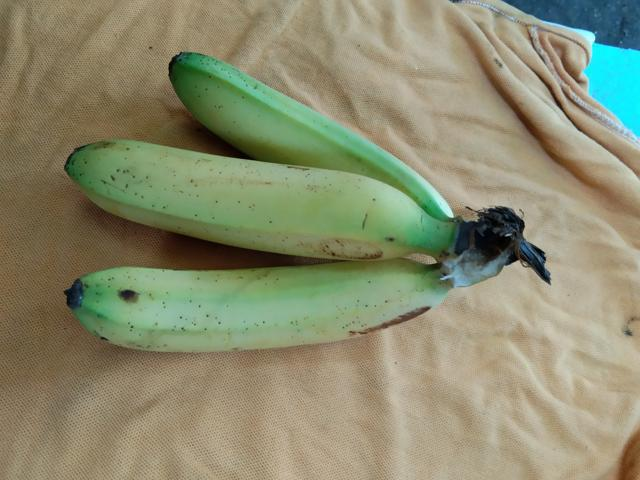ripe: (58, 122, 432, 270), (60, 244, 471, 373)
